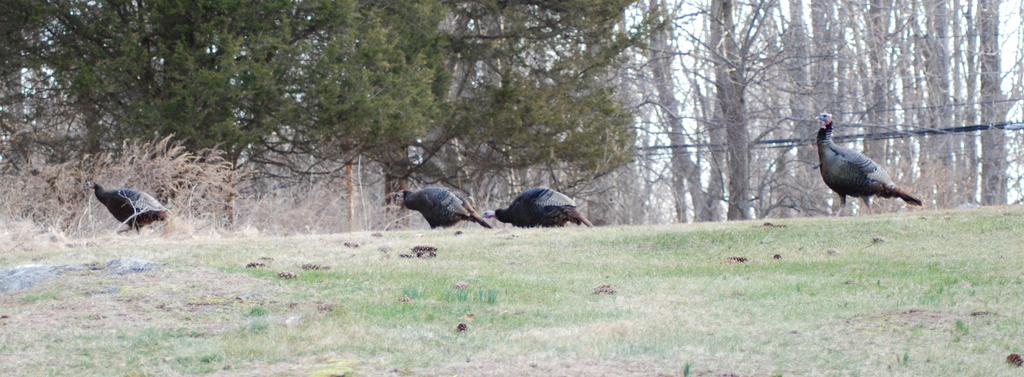Tree: (4, 0, 619, 229), (619, 0, 1023, 219)
